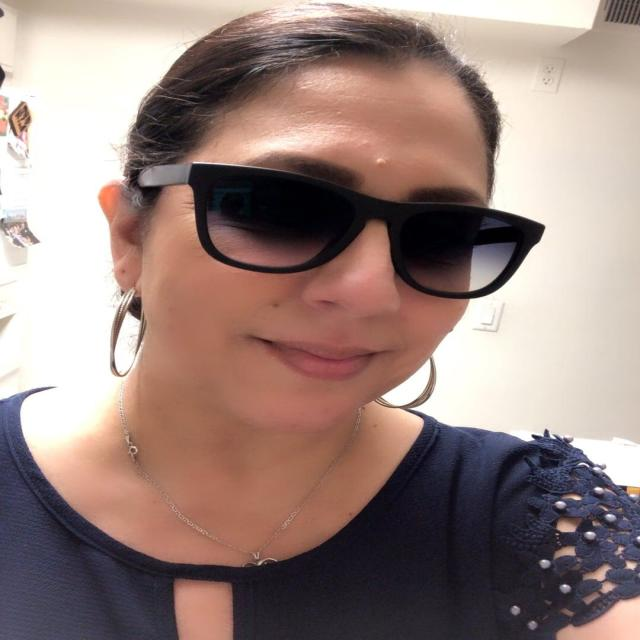2_gafas: (132, 160, 546, 300)
